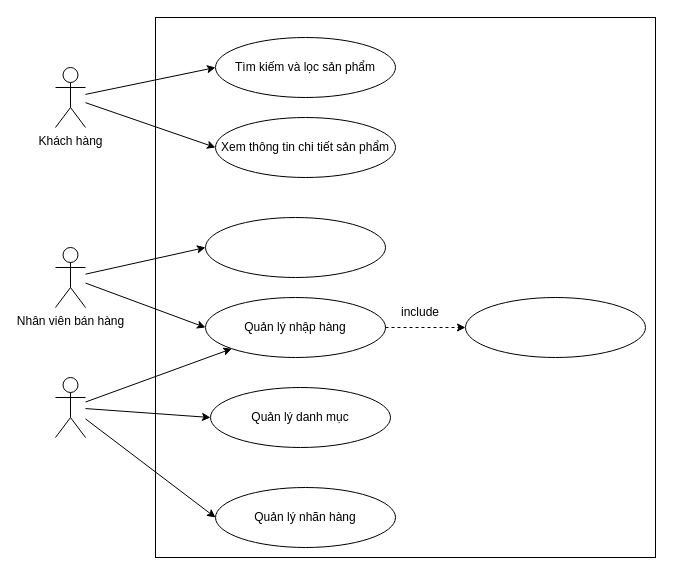
This 673x575 diagram has some shape labels left out. The centre of each missing label's shape, as x and y in pixels:
"Quản lý nhà cung cấp" goes at pixel 555 327.
"Quản lý sản phẩm" goes at pixel 295 247.
"Quản trị viên" goes at pixel 70 407.
